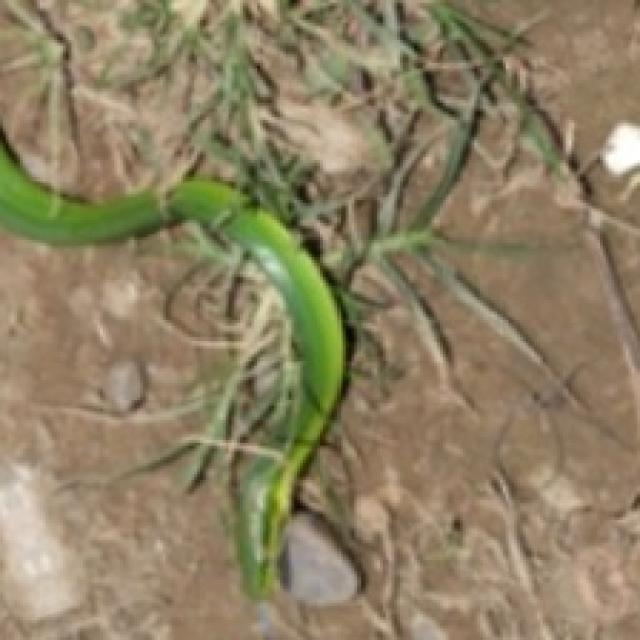red-tailed green ratsnake: (0, 0, 343, 594)
